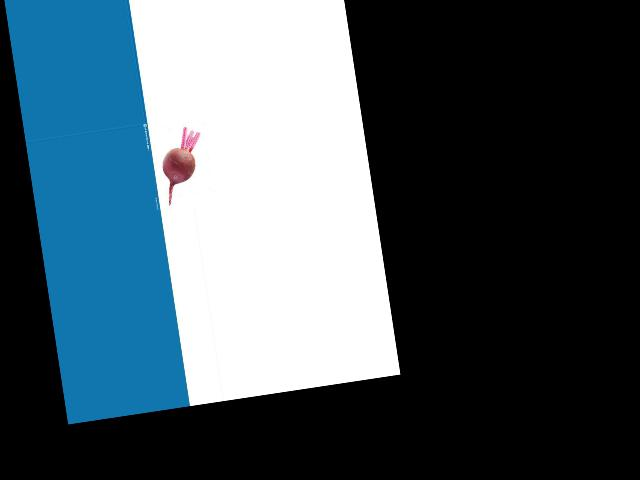beet: (157, 125, 209, 205)
